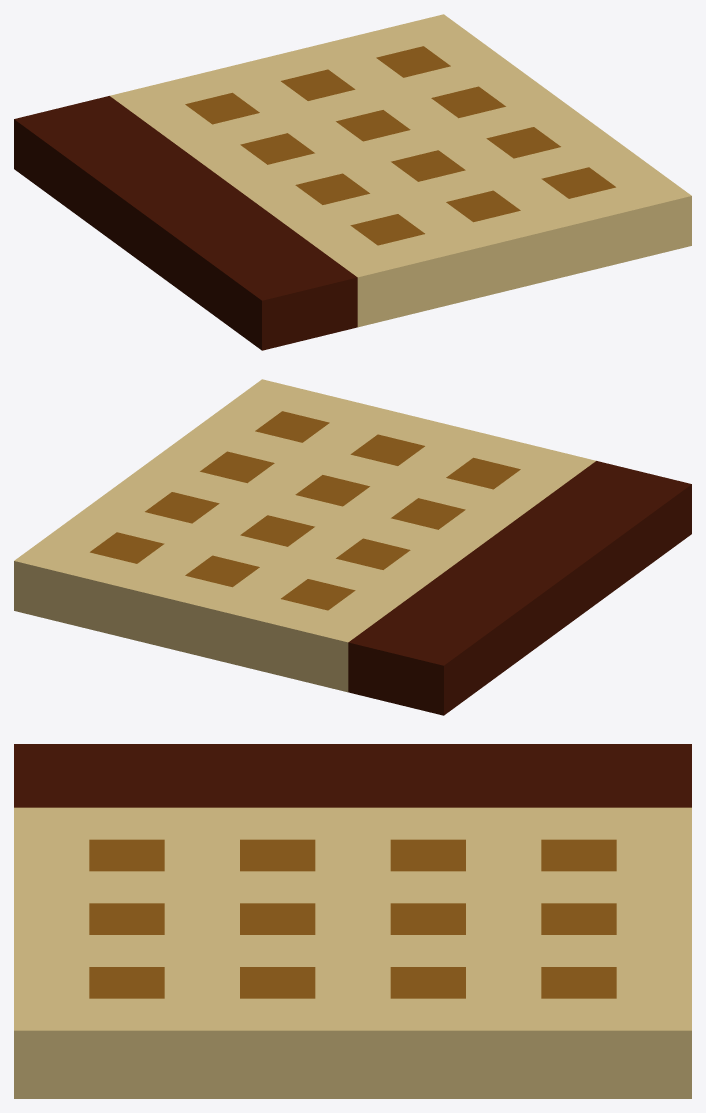
Rendered from Calendar.gltf.
3 views of the same model, one above another, from view 1: azimuth 30°, elevation 25°; view 2: azimuth 150°, elevation 25°; view 3: azimuth 270°, elevation 25° (orthographic). The views are drawn at different scales.
Parts seen in each view (by area): view 1: Layer.1; view 2: Layer.1; view 3: Layer.1.
Boxes of the visible parts, left/top/right/bottom form: Layer.1: left=14, top=14, right=691, bottom=350; Layer.1: left=14, top=379, right=691, bottom=715; Layer.1: left=14, top=744, right=691, bottom=1098.
Size of the model in its own units: 9 by 1 by 9.
